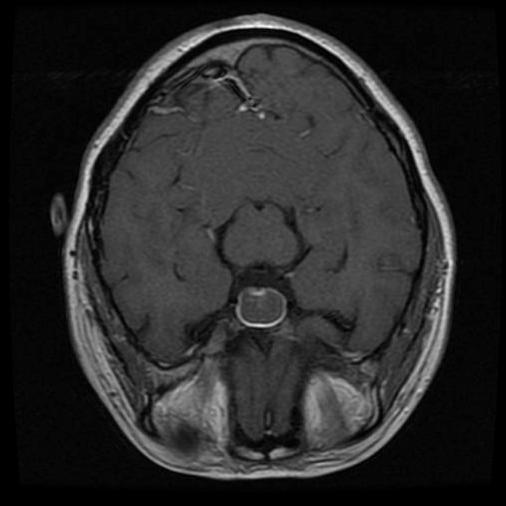Tumour-Pituitary: (231, 285, 295, 333)
